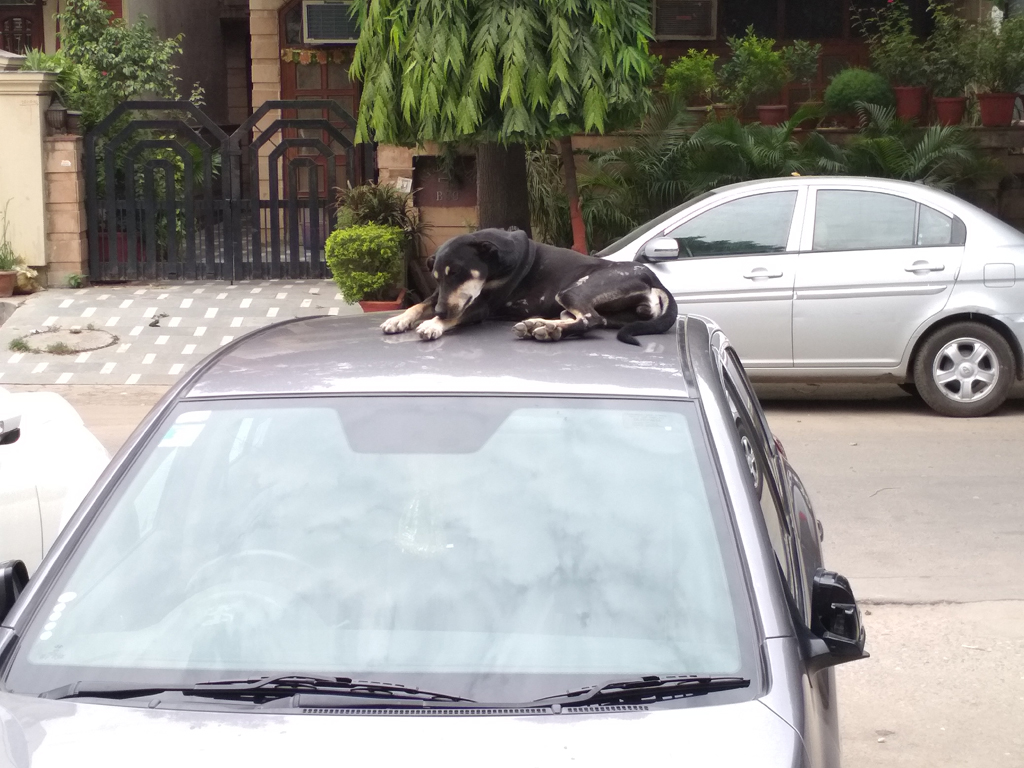dog: (380, 228, 677, 348)
